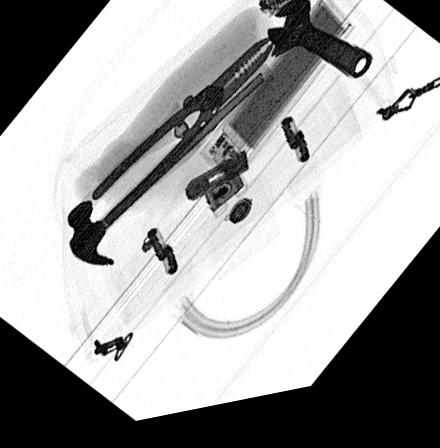Hammer: (67, 71, 274, 269)
Pliers: (89, 48, 273, 231)
Powerbank: (198, 4, 357, 196)
Wrench: (266, 6, 371, 93)
